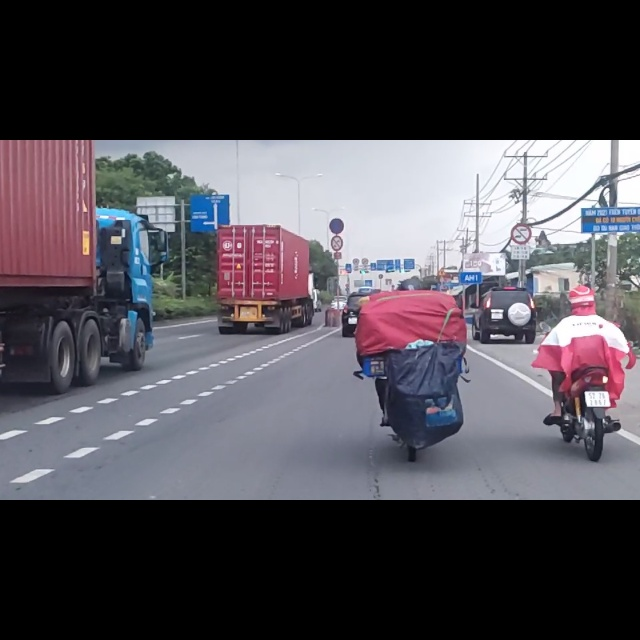bien_chi_dan: (511, 147, 531, 187), (328, 137, 345, 167), (331, 171, 343, 198)
